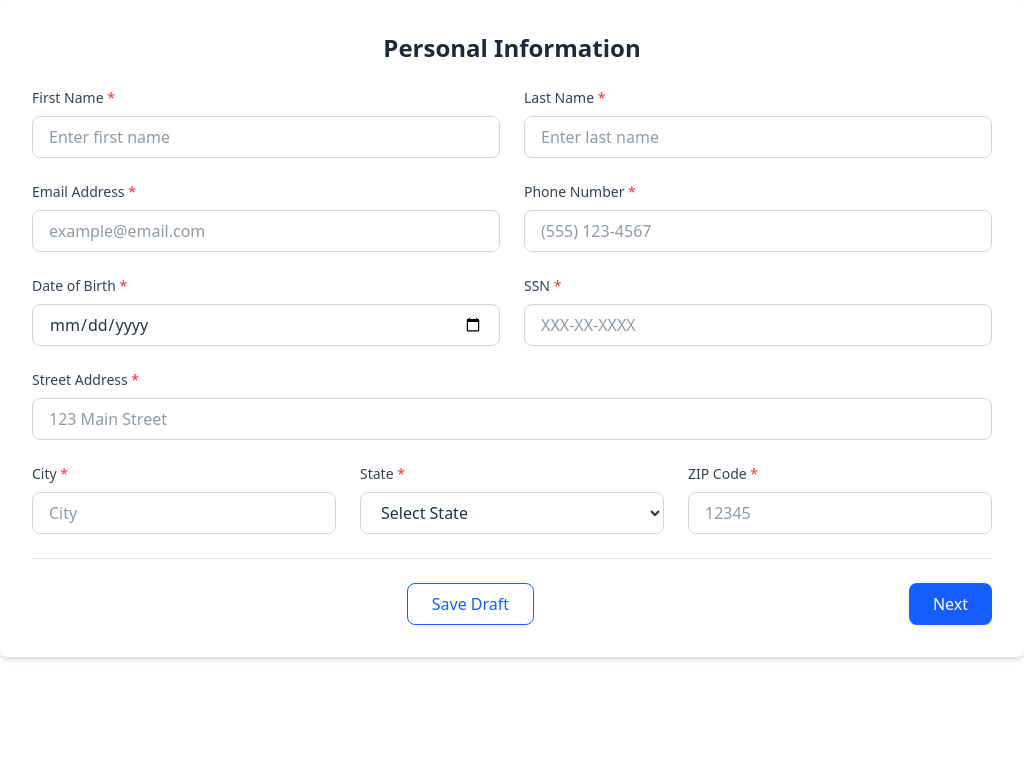
Scenario: PersonalInformation Component › Validation - Field Formats › should show error for invalid phone number
Type "123" into the field labelled "Phone Number *".
click(758, 231); type("123")  # box x1=524 y1=210 x2=992 y2=252
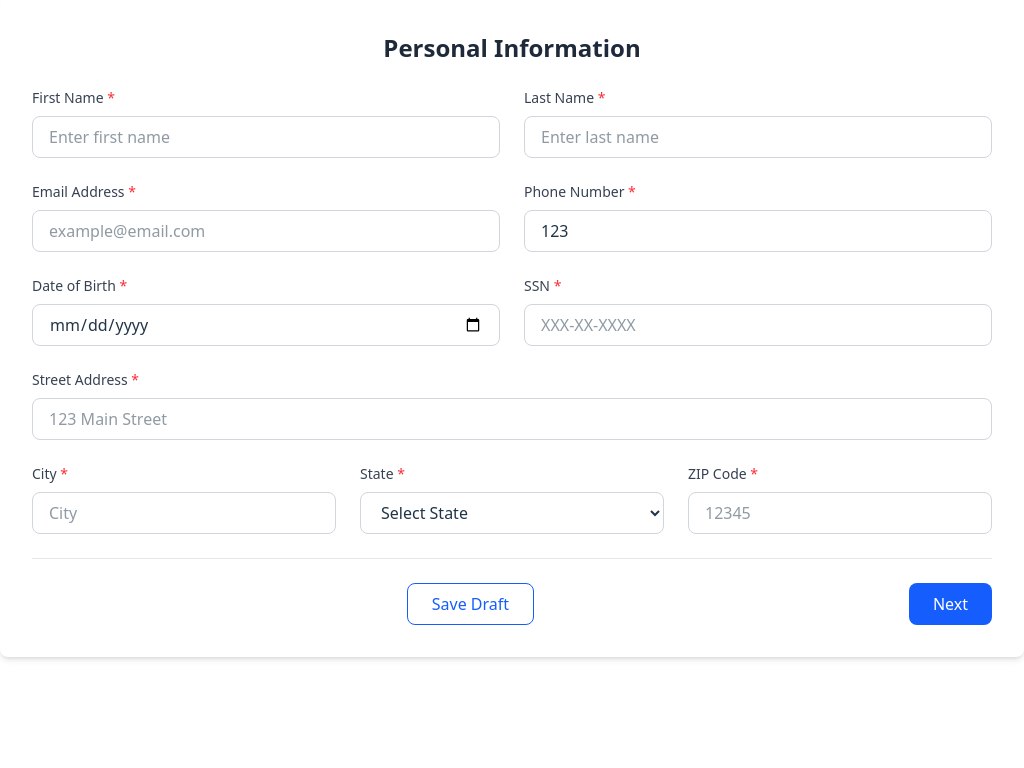
Leave the field labelled "Phone Number *", box x1=524 y1=210 x2=992 y2=252
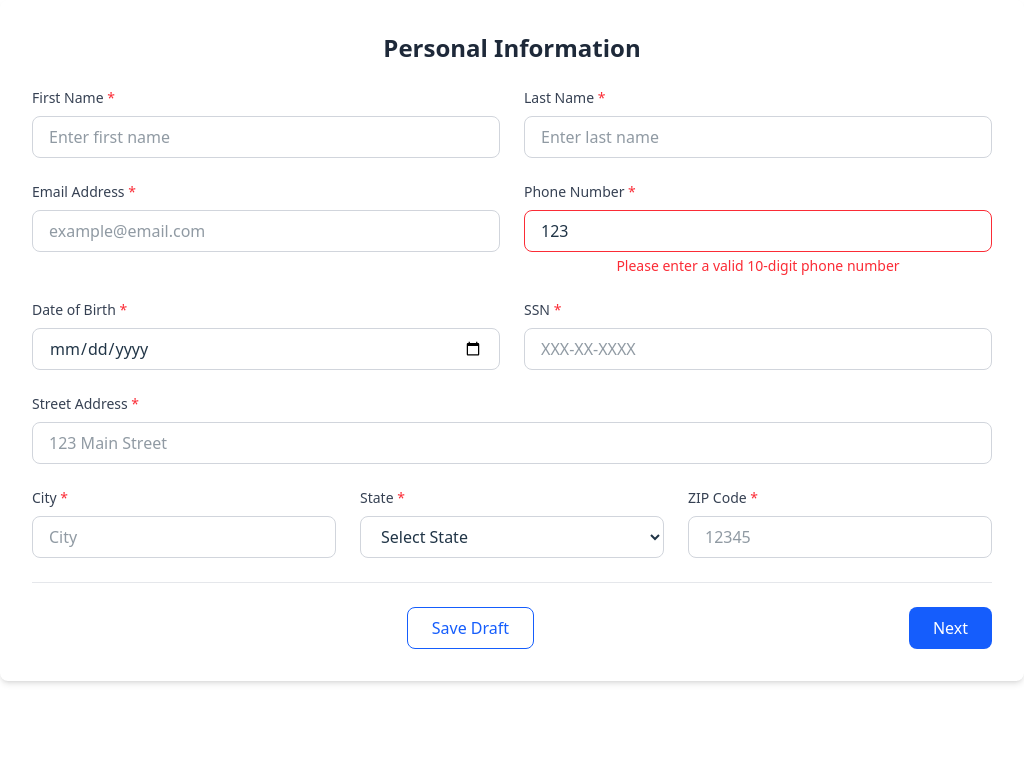
Expected: the text "Please enter a valid 10-digit phone number" is shown, x1=616 y1=256 x2=900 y2=275
